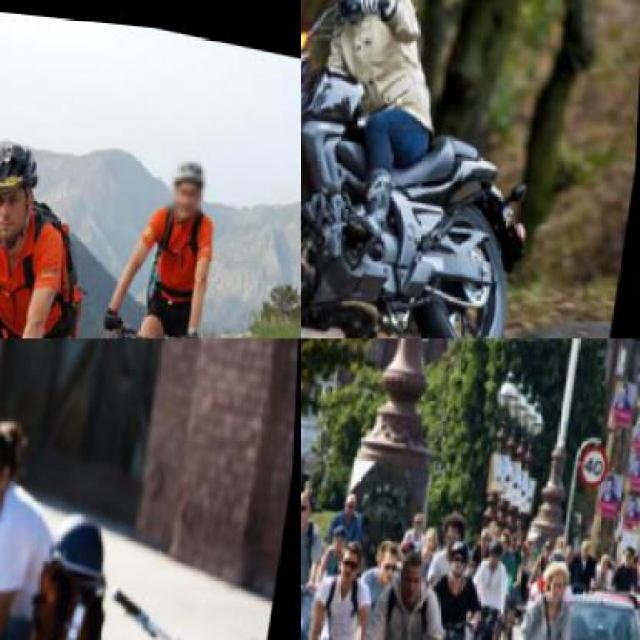With Helmet: (0, 128, 49, 242), (163, 144, 212, 213), (480, 521, 512, 567), (448, 527, 477, 576)
Without Helmet: (392, 534, 441, 604), (538, 540, 582, 602), (333, 523, 369, 585), (404, 493, 431, 533), (300, 475, 320, 528), (341, 480, 367, 517), (617, 523, 638, 563)
